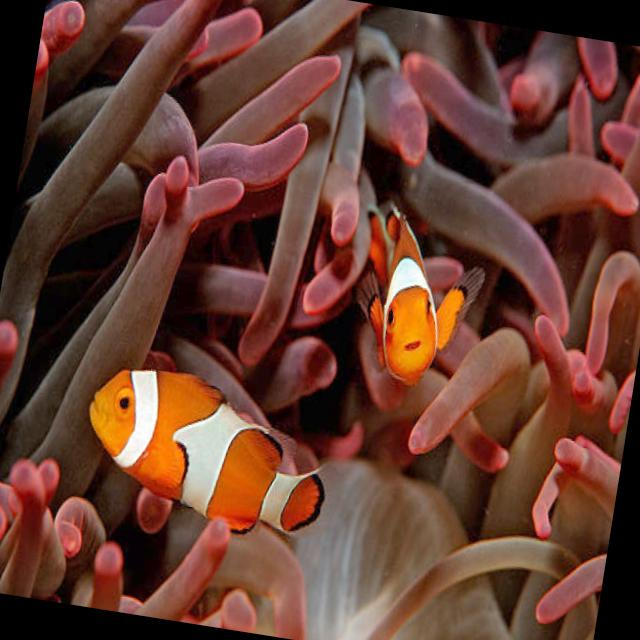ClownFish: (69, 350, 344, 558), (354, 190, 496, 393)
